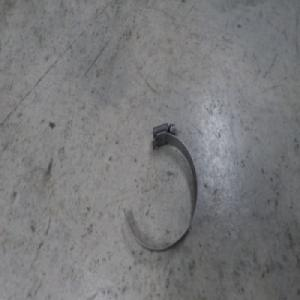AdjustableClamp: (121, 122, 197, 251)
